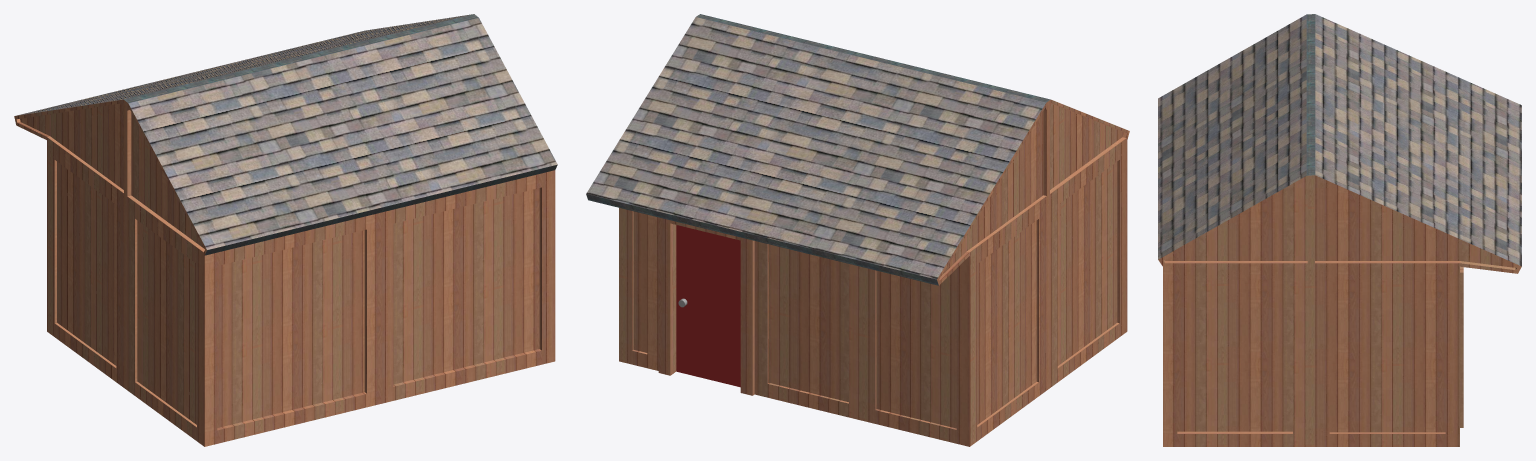
Rendered from Shed.dae.
The picture shows the model from 3 angles, left to right: view 1: azimuth 30°, elevation 25°; view 2: azimuth 150°, elevation 25°; view 3: azimuth 270°, elevation 25°; orthographic projection. The views are drawn at different scales.
Parts seen in each view (by area): view 1: SketchUp (×9); view 2: SketchUp (×10); view 3: SketchUp (×6).
Boxes of the visible parts, bbox=[...] form: SketchUp (×9): bbox=[14, 14, 557, 446]; SketchUp (×10): bbox=[586, 14, 1129, 446]; SketchUp (×6): bbox=[1158, 14, 1521, 446].
Bounding box in the file's own units: 167 × 159 × 131.
11 materials, 3 textured.
